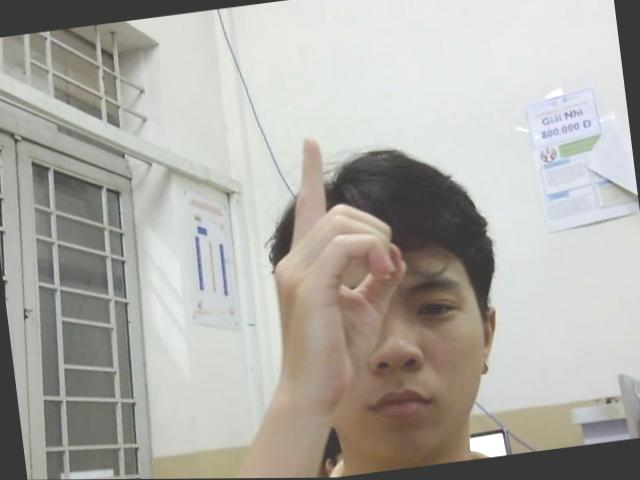D: (252, 124, 418, 400)
